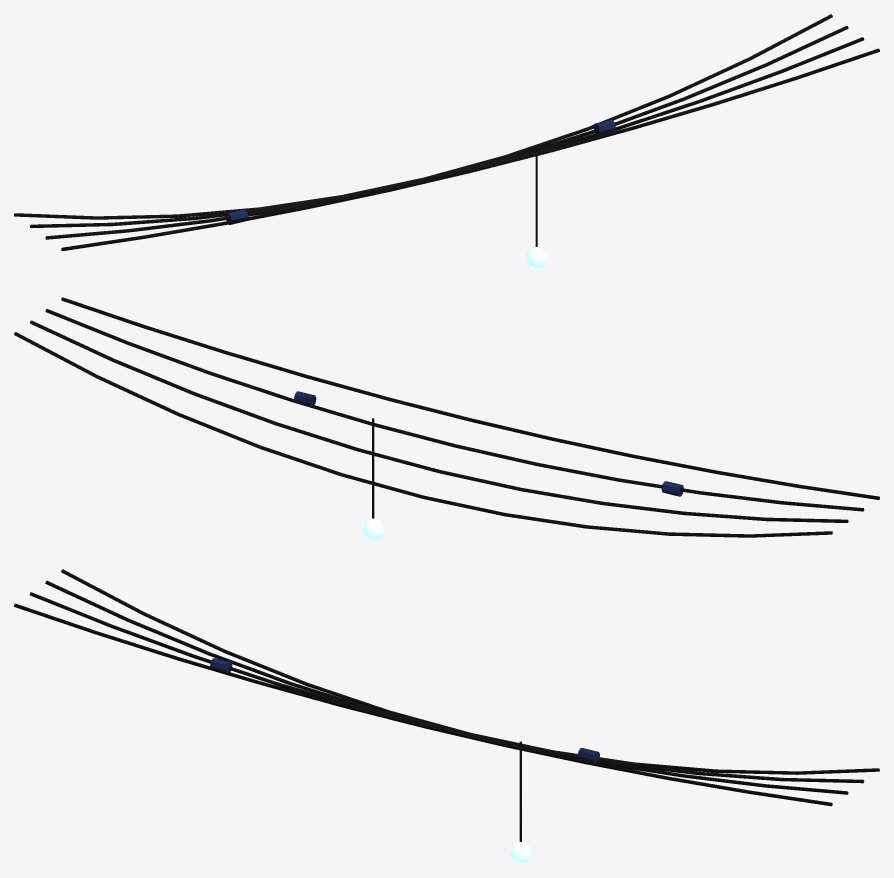
Rendered from r2_gueto.glb.
3 renders of one model, top to bottom at view 1: azimuth 30°, elevation 25°; view 2: azimuth 150°, elevation 25°; view 3: azimuth 330°, elevation 25°, orthographic.
Visible parts, largest first — view 1: fiacao_6m; view 2: fiacao_6m; view 3: fiacao_6m.
Boxes of the visible parts, box(x1,y1,x2,y2) form: fiacao_6m: box(14, 14, 879, 268); fiacao_6m: box(14, 297, 879, 540); fiacao_6m: box(14, 569, 879, 863).
Bounding box in the file's own units: 6.01 × 1.06 × 0.6217.
